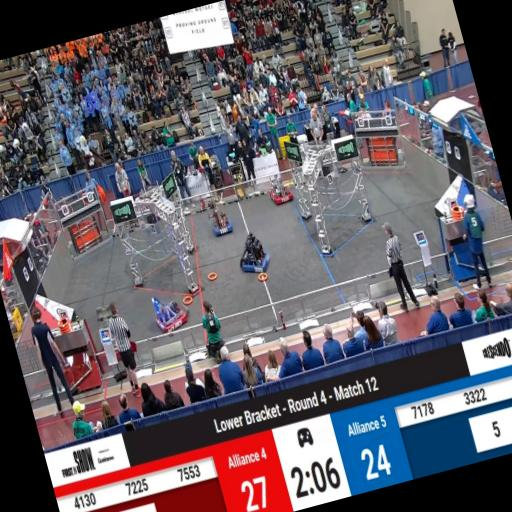robot: (92, 299, 132, 366), (233, 232, 272, 277), (150, 293, 188, 334), (266, 174, 292, 206), (208, 206, 234, 237)
